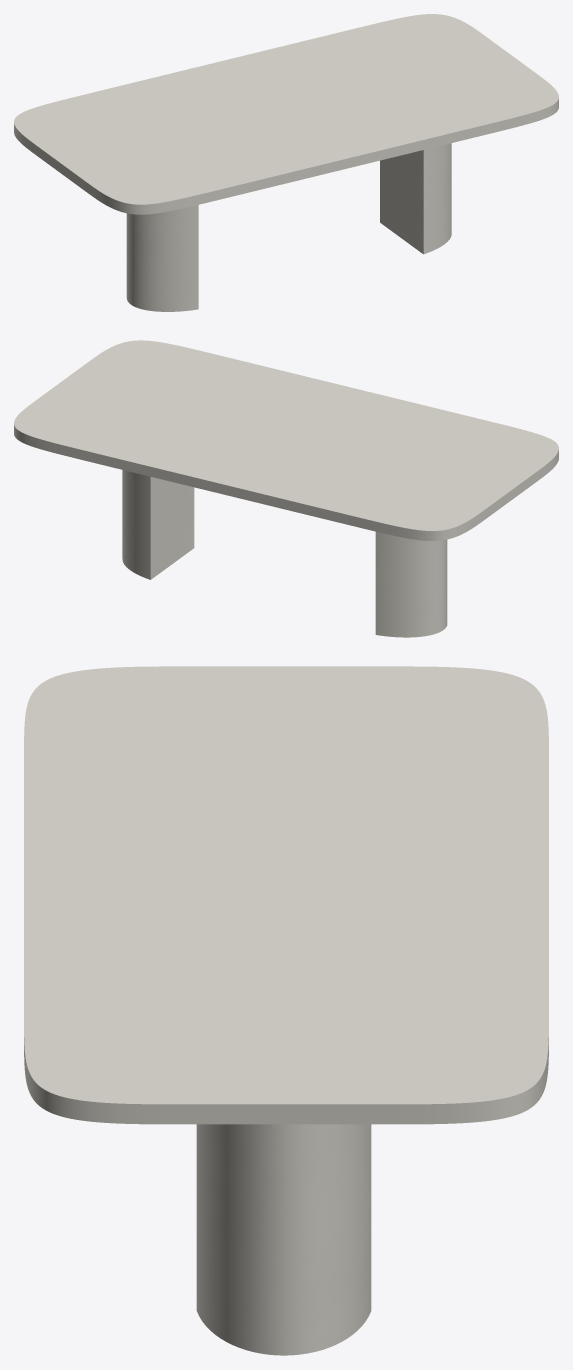
Rendered from pale_softrecta_standard_hillside.glb.
3 renders of one model, top to bottom at view 1: azimuth 30°, elevation 25°; view 2: azimuth 150°, elevation 25°; view 3: azimuth 270°, elevation 25°, orthographic. The views are drawn at different scales.
Parts seen in each view (by area): view 1: standard_softrecta, hillside; view 2: standard_softrecta, hillside; view 3: standard_softrecta, hillside.
Boxes of the visible parts, bbox=[...] form: standard_softrecta: bbox=[14, 14, 558, 214]; hillside: bbox=[126, 143, 451, 311]; standard_softrecta: bbox=[14, 340, 558, 540]; hillside: bbox=[122, 470, 447, 637]; standard_softrecta: bbox=[24, 666, 548, 1124]; hillside: bbox=[196, 1124, 371, 1355].
Size of the model in its own units: 7.5 by 2.5 by 3.8.
1 material, 1 textured.
